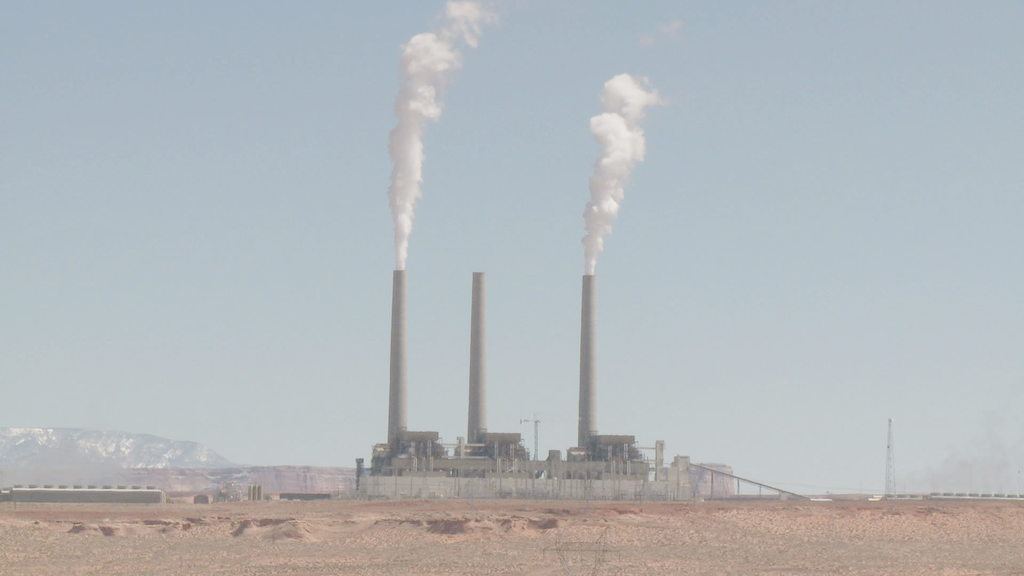dust: (343, 7, 472, 289), (546, 65, 655, 290)
